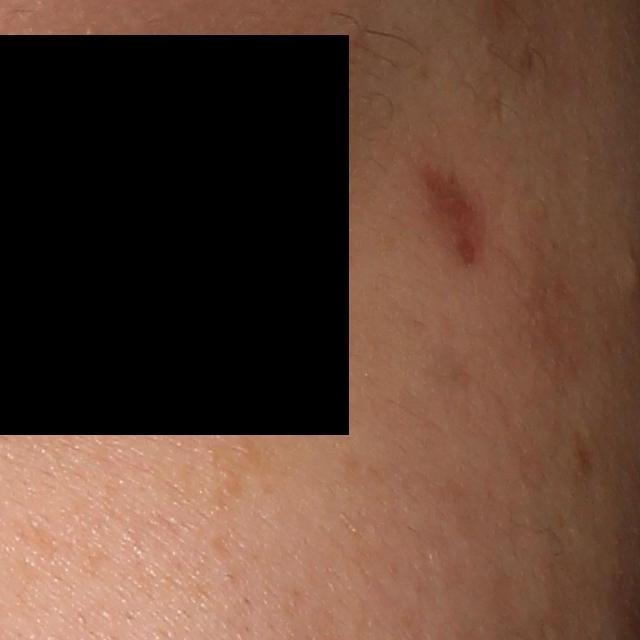atrophic_scar: (418, 160, 483, 271)
melasma: (205, 410, 284, 520)
